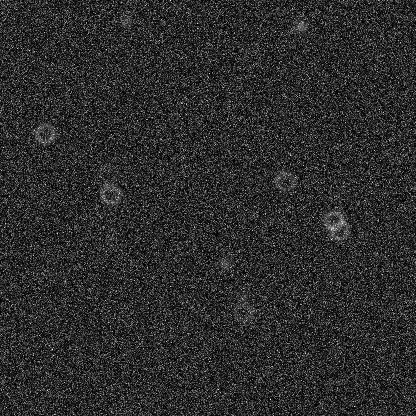Ring: (33, 121, 57, 145), (231, 300, 255, 324), (321, 208, 345, 232), (327, 218, 351, 242), (97, 162, 121, 186), (273, 169, 297, 193), (98, 182, 122, 206)
Spot: (235, 288, 251, 304), (117, 12, 133, 28), (293, 17, 309, 33), (215, 255, 231, 271)
